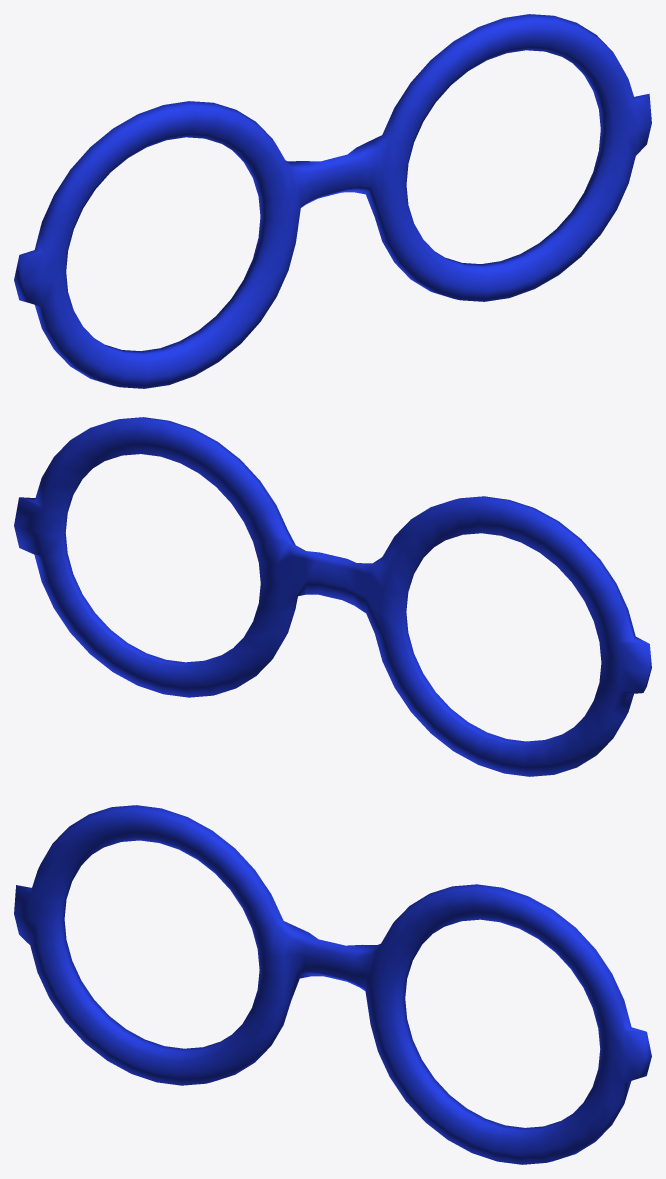
The model's file is Glasses_Custom.fbx.
3 views of the same model, one above another, from view 1: azimuth 30°, elevation 25°; view 2: azimuth 150°, elevation 25°; view 3: azimuth 330°, elevation 25° (orthographic). The views are drawn at different scales.
Parts seen in each view (by area): view 1: Glasses_Custom; view 2: Glasses_Custom; view 3: Glasses_Custom.
Part boxes in pixels (x1=…): Glasses_Custom: x1=14, y1=14, x2=651, y2=388; Glasses_Custom: x1=14, y1=417, x2=651, y2=776; Glasses_Custom: x1=14, y1=805, x2=651, y2=1164.
Size of the model in its own units: 2.48 by 1.03 by 0.1177.
